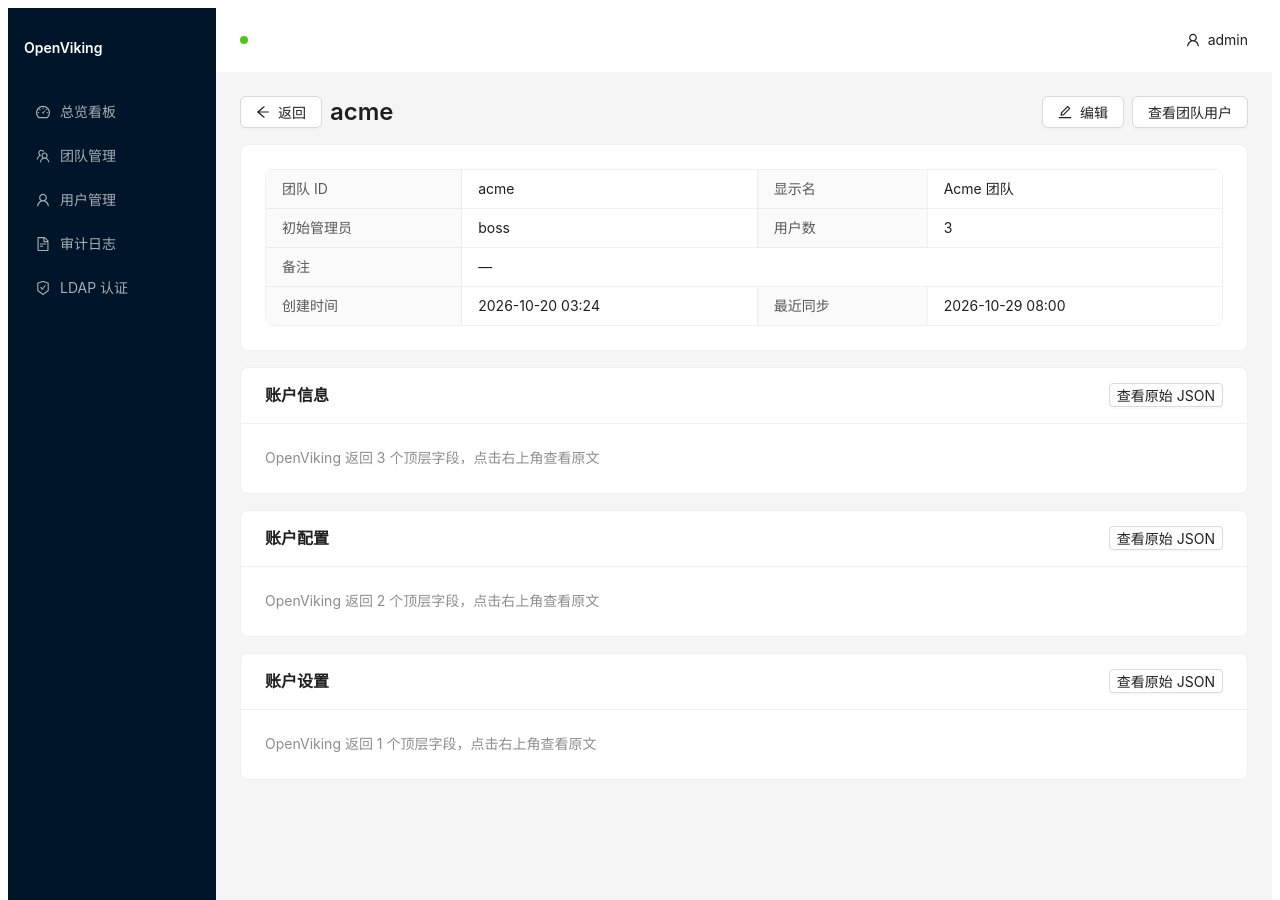
Test case: TenantDetailPage › 查看原始 JSON 抽屉展示后端对象原文
Expected: the text "账户配置" is shown, [265,528,329,548]
Click the button "查看原始 JSON" in the row of "账户配置". click: (1166, 538)
box: [1109,526,1223,550]
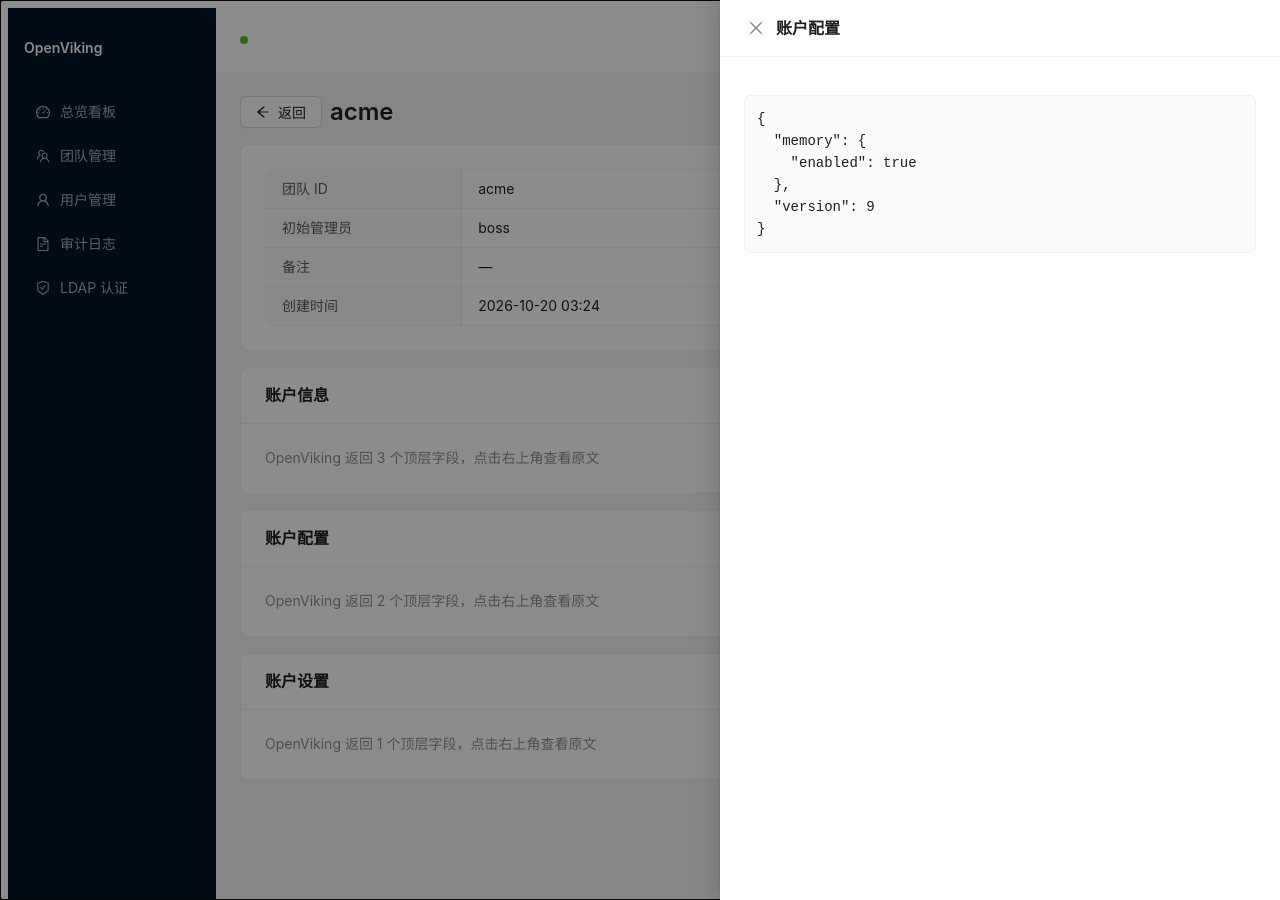
Expected: the dialog shows "\"enabled\": true", [757,111,917,237]
Expected: the dialog shows "\"version\": 9", [757,111,917,237]
